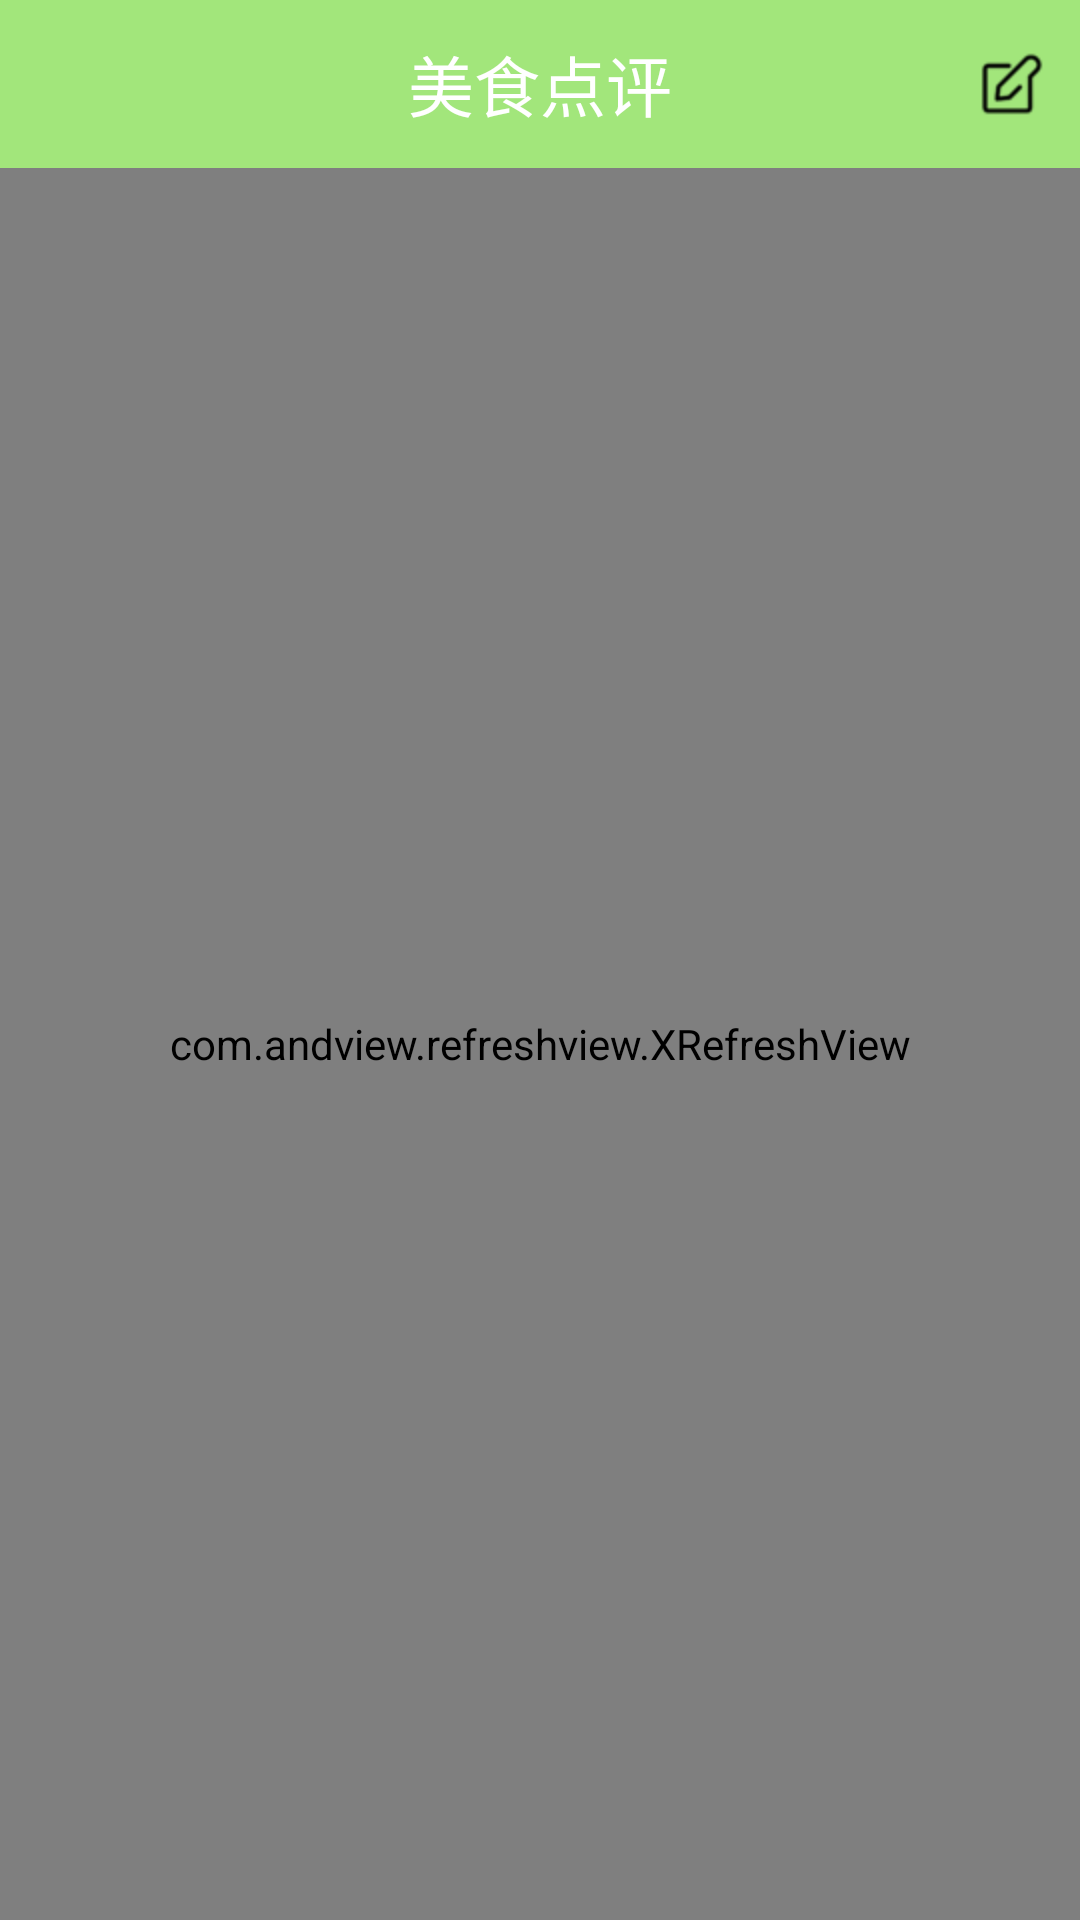

Screen size 1080*1920. Icon name, then its box in pixels as (x1, y1, x2, y2):
edit: (981, 53, 1043, 115)
